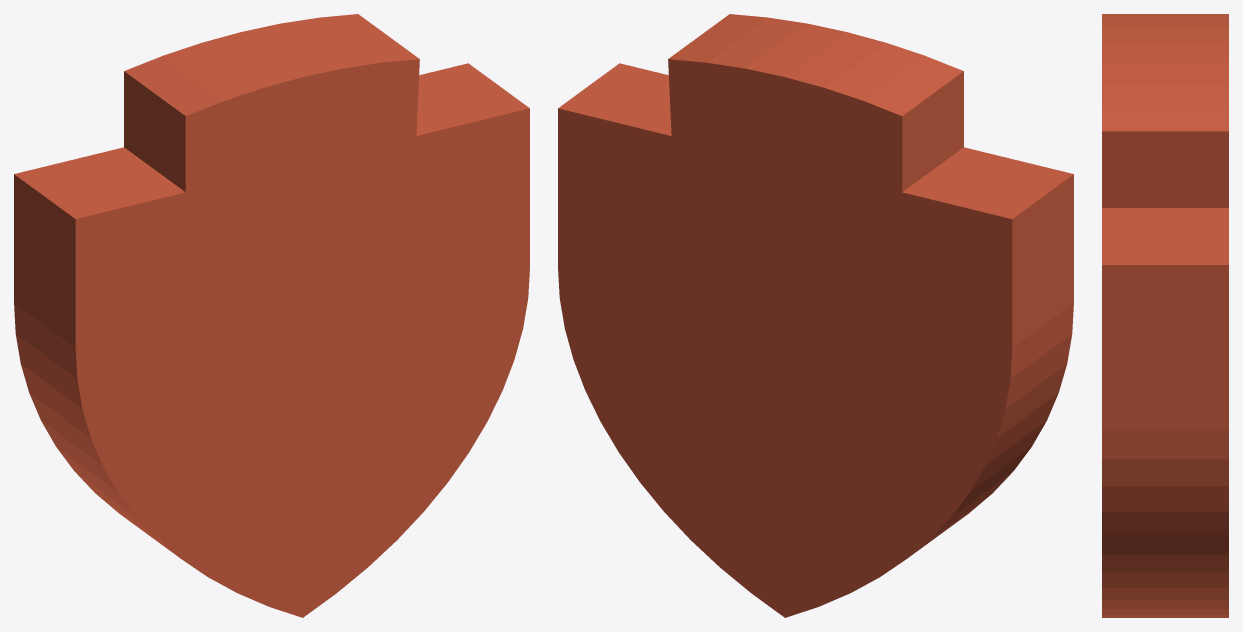
The model's file is shieldred.glb.
3 views of the same model, side by side, from view 1: azimuth 30°, elevation 25°; view 2: azimuth 150°, elevation 25°; view 3: azimuth 270°, elevation 25° (orthographic). The views are drawn at different scales.
Visible parts, largest first — view 1: shieldRed; view 2: shieldRed; view 3: shieldRed.
Boxes of the visible parts, x1,y1,x2,y2 form: shieldRed: (14, 14, 529, 617); shieldRed: (558, 14, 1073, 617); shieldRed: (1102, 14, 1228, 617).
Bounding box in the file's own units: 2.4 × 2.73 × 0.564.
